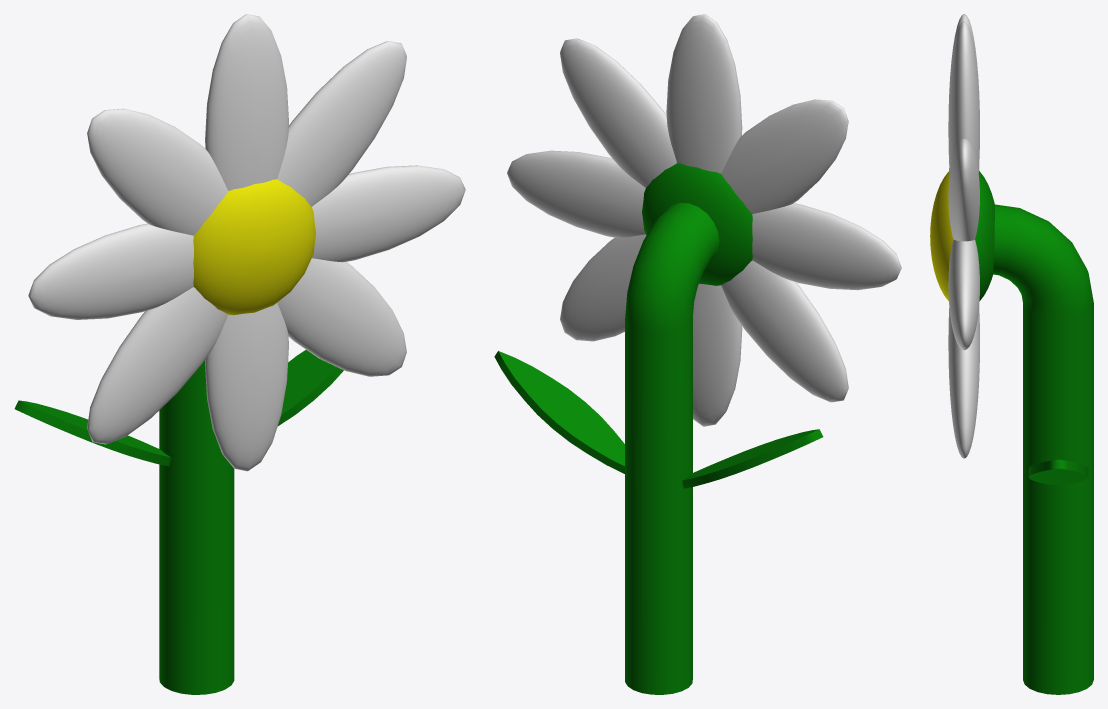
The model's file is Flower.fbx.
3 views of the same model, side by side, from view 1: azimuth 30°, elevation 25°; view 2: azimuth 150°, elevation 25°; view 3: azimuth 270°, elevation 25° (orthographic). The views are drawn at different scales.
Parts seen in each view (by area): view 1: pTorus1, polySurface7, polySurface2, polySurface9, polySurface6, polySurface3, polySurface4, polySurface5, polySurface8, polySurface1, polySurface11, polySurface10; view 2: pTorus1, polySurface2, polySurface9, polySurface6, polySurface3, polySurface4, polySurface8, polySurface7, polySurface5, polySurface1, polySurface11, polySurface10; view 3: pTorus1, polySurface7, polySurface6, polySurface1, polySurface8, polySurface4, polySurface11, polySurface2.
Part boxes in pixels (x1,y1,x2,y2): pTorus1: [159, 360, 234, 694]; polySurface7: [193, 179, 315, 315]; polySurface2: [87, 108, 227, 235]; polySurface9: [28, 223, 193, 319]; polySurface6: [205, 14, 288, 190]; polySurface3: [87, 287, 227, 444]; polySurface4: [277, 41, 406, 206]; polySurface5: [205, 303, 288, 471]; polySurface8: [312, 165, 465, 262]; polySurface1: [277, 258, 406, 376]; polySurface11: [278, 350, 343, 425]; polySurface10: [14, 400, 170, 466]; pTorus1: [625, 202, 719, 694]; polySurface2: [721, 99, 848, 213]; polySurface9: [752, 203, 901, 290]; polySurface6: [666, 14, 742, 173]; polySurface3: [721, 260, 848, 402]; polySurface4: [560, 38, 676, 187]; polySurface8: [507, 150, 645, 237]; polySurface7: [642, 163, 752, 285]; polySurface5: [693, 283, 742, 426]; polySurface1: [560, 234, 646, 341]; polySurface11: [494, 351, 624, 473]; polySurface10: [682, 429, 823, 488]; pTorus1: [993, 204, 1093, 694]; polySurface7: [930, 171, 994, 301]; polySurface6: [948, 21, 979, 172]; polySurface1: [948, 308, 979, 458]; polySurface8: [948, 239, 979, 350]; polySurface4: [948, 138, 979, 241]; polySurface11: [1028, 459, 1088, 484]; polySurface2: [948, 14, 979, 125].
Size of the model in its own units: 2 by 3.07 by 0.693.
